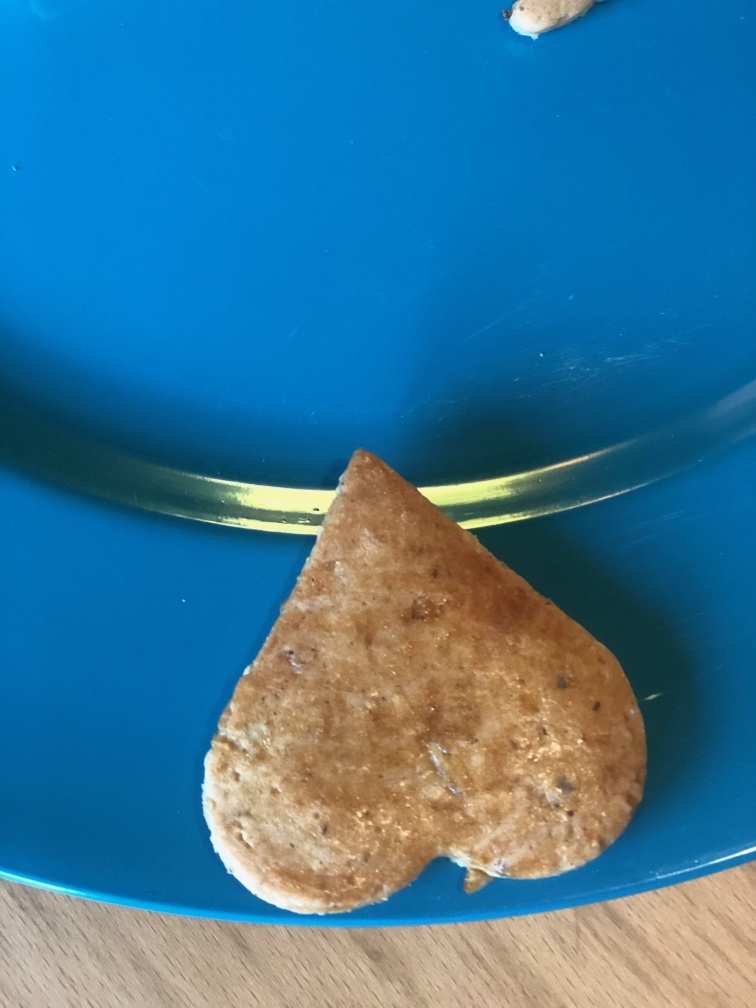heart: (202, 446, 649, 917)
